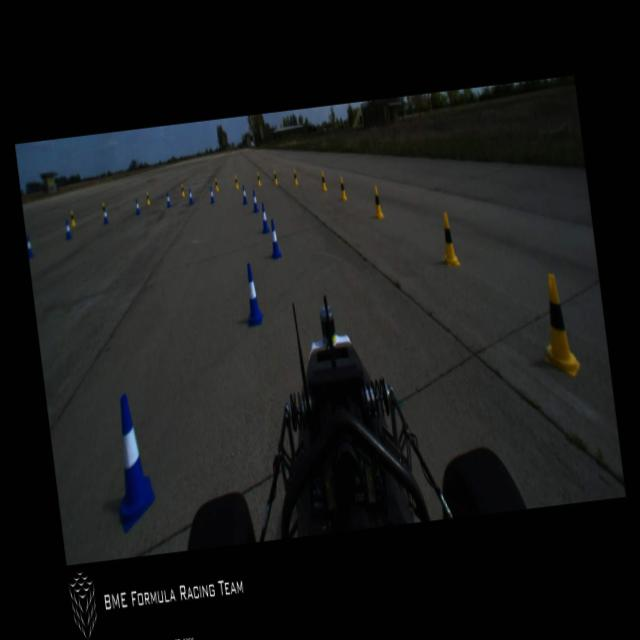blue_cone: (104, 391, 158, 534), (240, 262, 264, 326), (266, 218, 282, 258), (258, 202, 269, 232), (250, 188, 259, 213), (26, 234, 34, 259), (64, 218, 72, 240), (240, 185, 248, 204), (208, 184, 215, 203), (102, 206, 108, 224), (188, 188, 194, 204), (165, 192, 171, 208), (134, 198, 140, 214)
yellow_cone: (536, 271, 580, 379), (436, 209, 459, 268), (371, 186, 383, 218), (338, 176, 347, 202), (319, 170, 326, 192), (69, 210, 76, 227), (292, 168, 298, 187), (272, 168, 278, 186), (100, 202, 106, 216), (180, 182, 185, 198), (145, 190, 150, 204), (213, 178, 218, 192), (256, 172, 261, 186), (234, 175, 238, 189)
